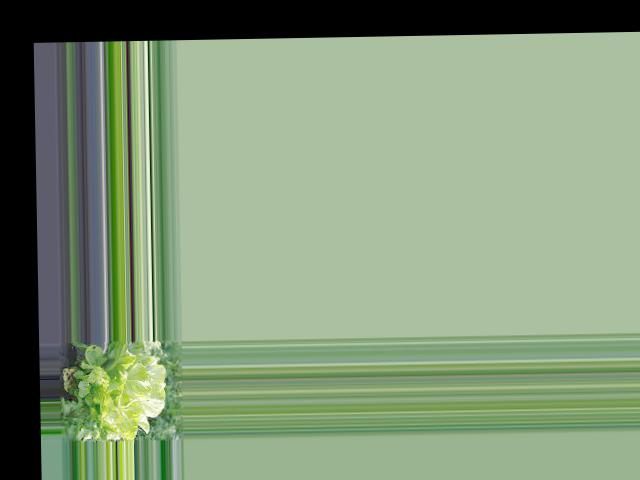lettuce: (79, 343, 165, 431)
